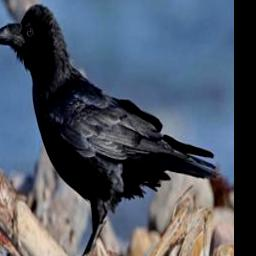Crow: (0, 2, 220, 256)
